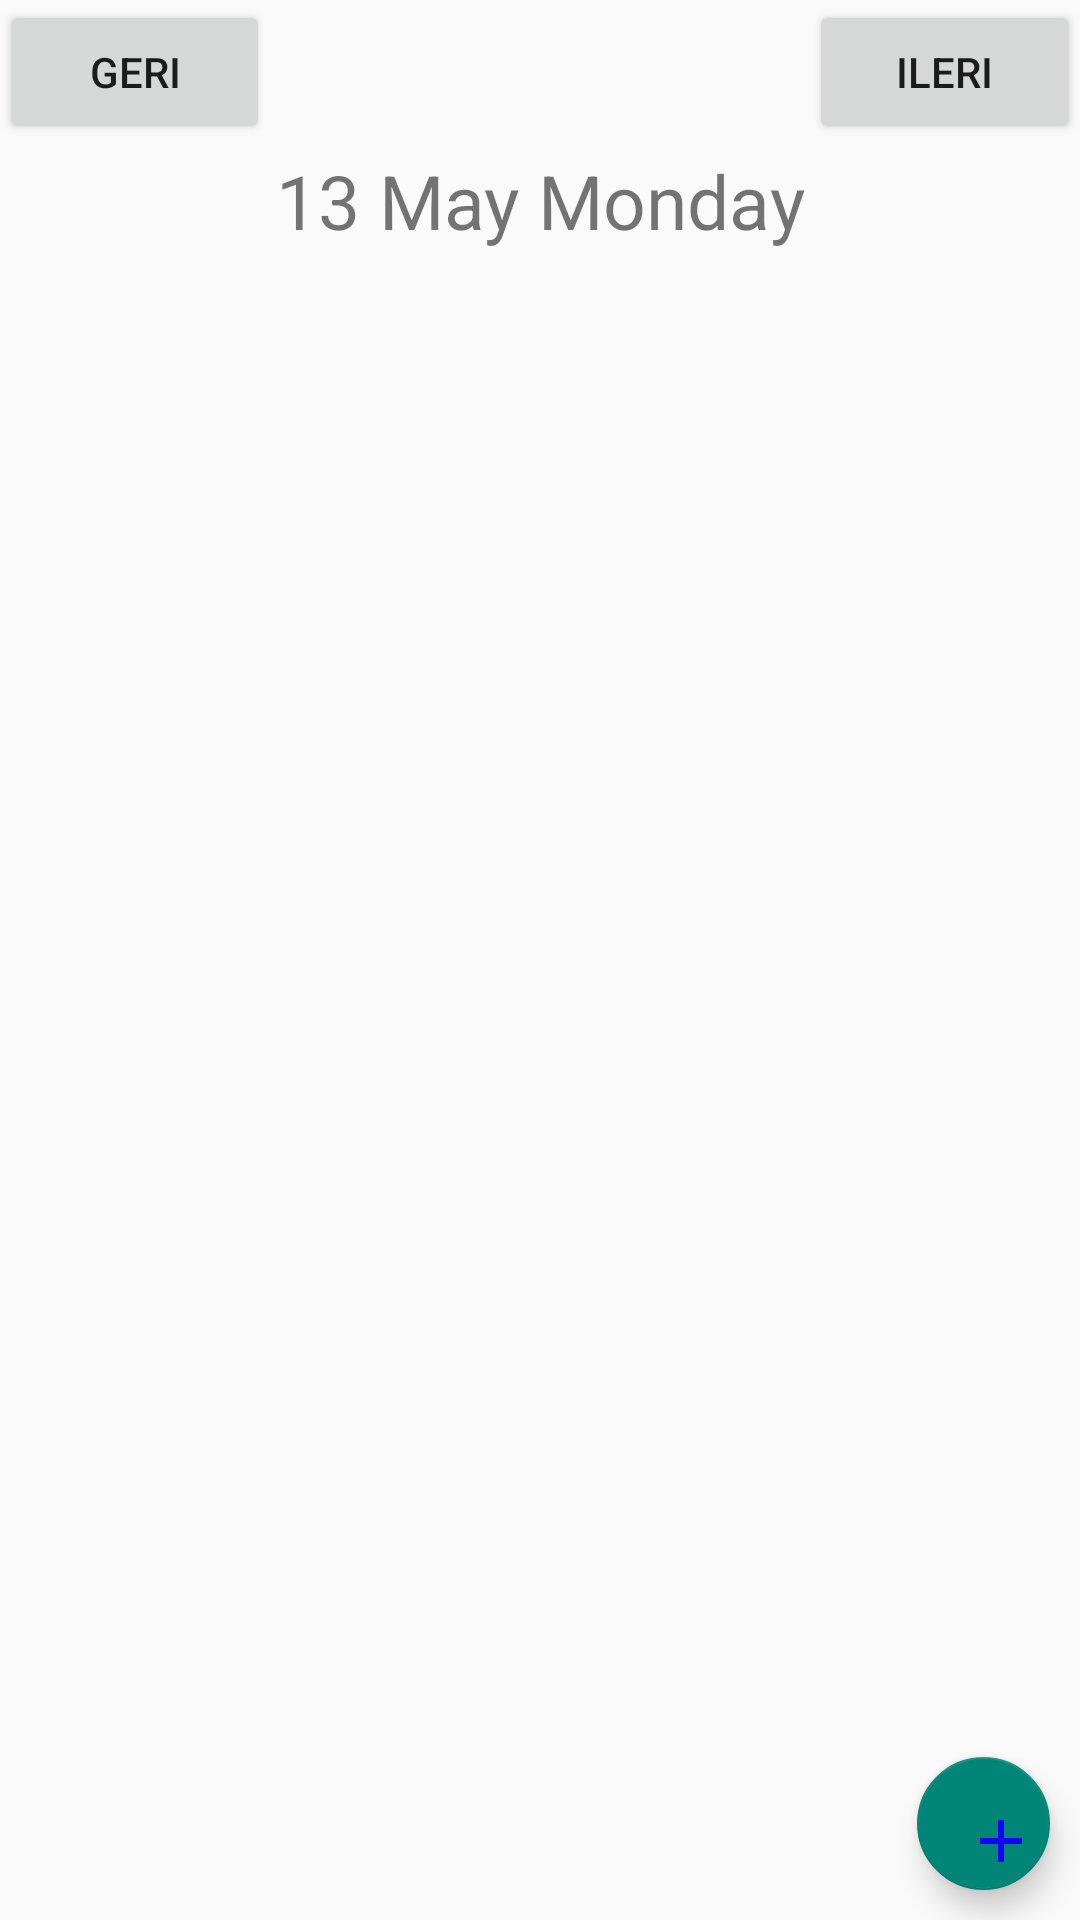

Icon bounding boxes for this 1080 x 1920 phone screenshot, format (x1, y1, x2, y2):
add: (917, 1757, 1050, 1890)
